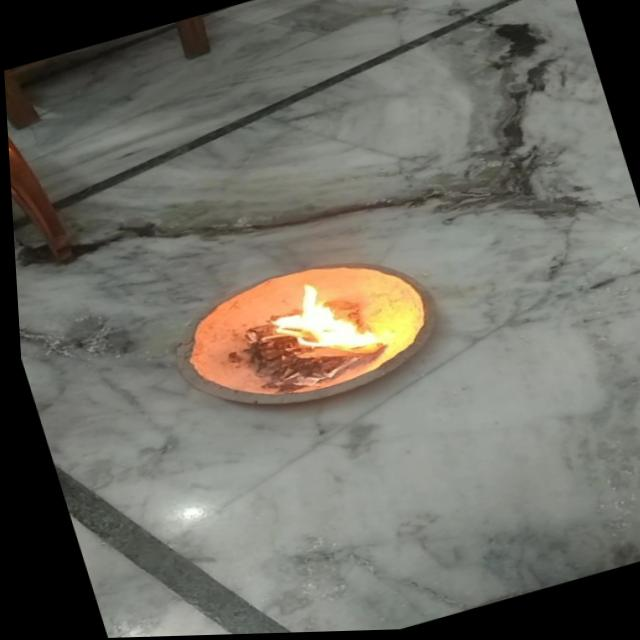fire: (253, 269, 377, 373)
